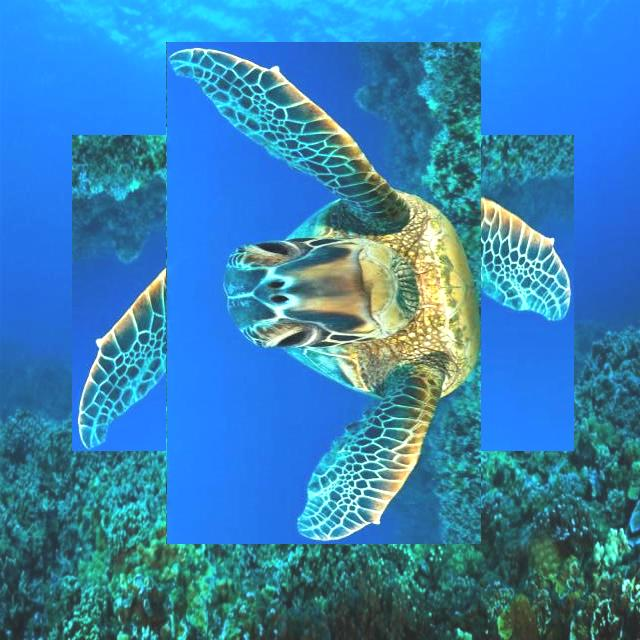Sea turtle: (119, 89, 527, 498)
